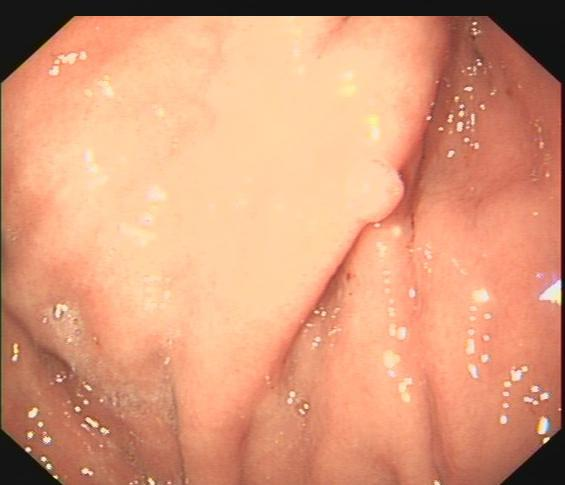Polyp: (343, 159, 405, 225)
